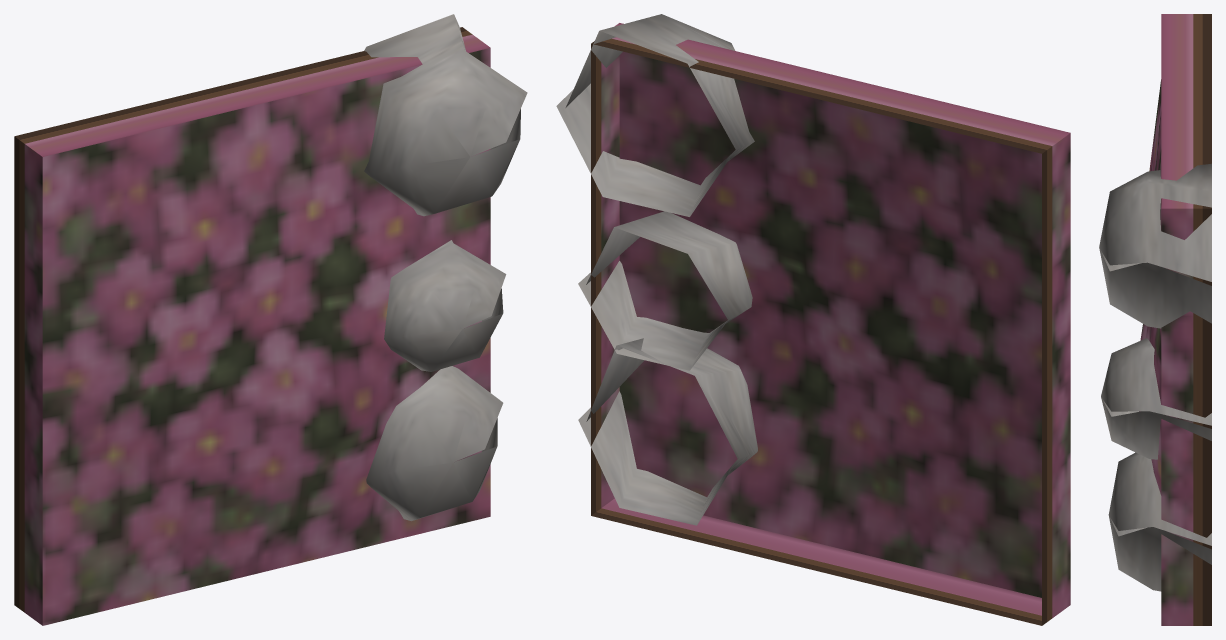
Rendered from keep-keep-bed-palepink-stones-e.obj.
The picture shows the model from 3 angles, left to right: view 1: azimuth 30°, elevation 25°; view 2: azimuth 150°, elevation 25°; view 3: azimuth 270°, elevation 25°; orthographic projection. The views are drawn at different scales.
Parts seen in each view (by area): view 1: bed-palepink-stones-e; view 2: bed-palepink-stones-e; view 3: bed-palepink-stones-e.
Part boxes in pixels (box(x1,y1,x2,y2)): bed-palepink-stones-e: box(14, 14, 527, 625); bed-palepink-stones-e: box(556, 14, 1070, 625); bed-palepink-stones-e: box(1099, 14, 1211, 625).
Bounding box in the file's own units: 1.08 × 1.03 × 0.2448.
Materials: 1 (1 with a texture image).
